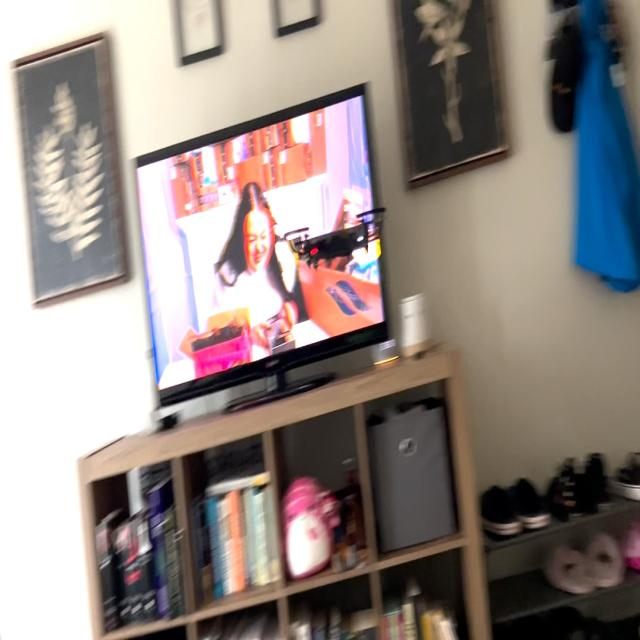drone: (270, 199, 395, 280)
